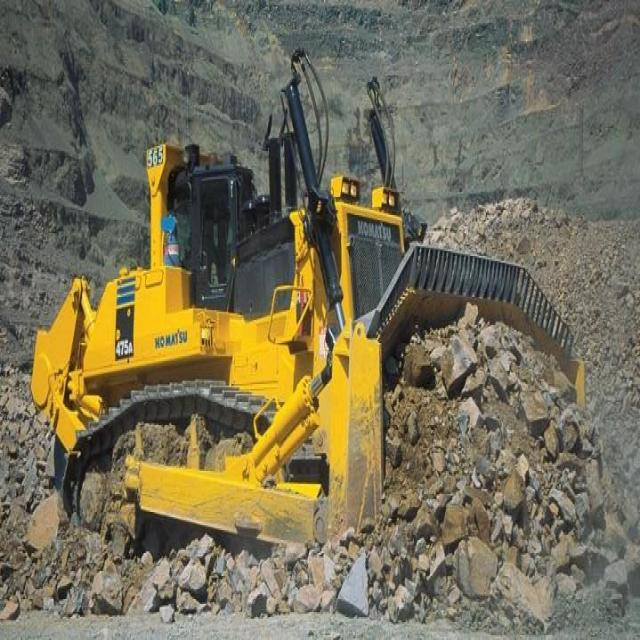Bulldozer: (28, 64, 596, 597)
